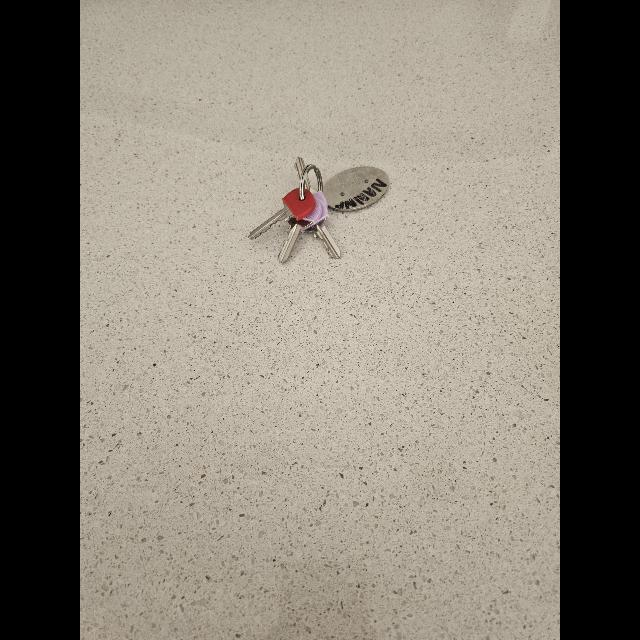Keys: (248, 158, 344, 264)
